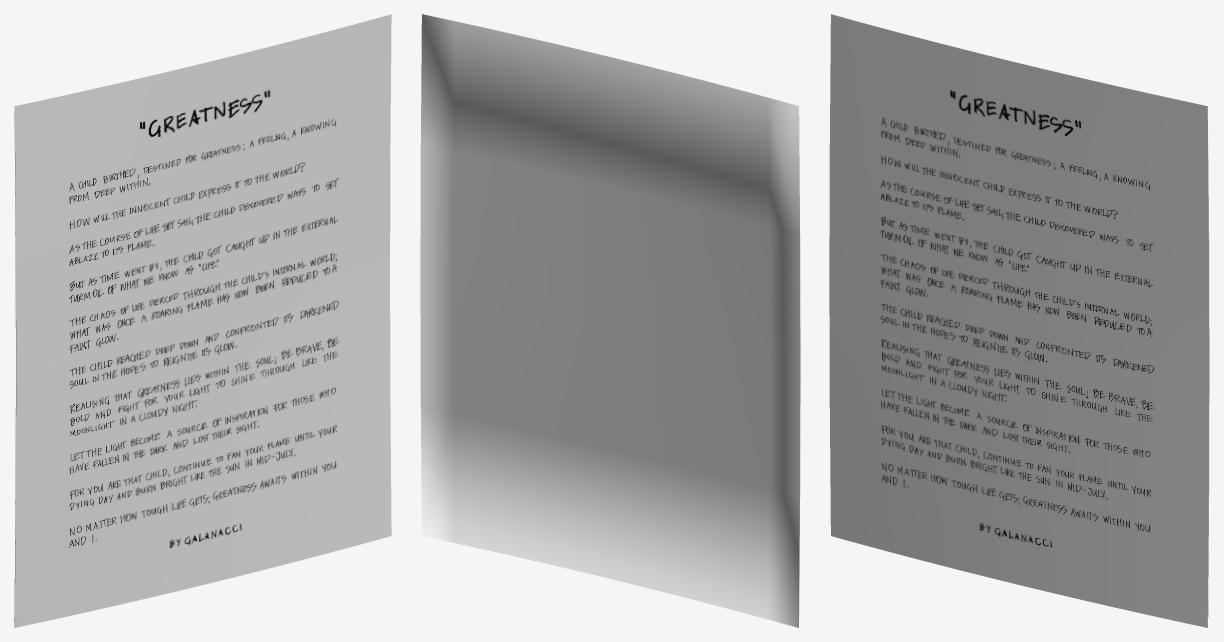
The model's file is 04-greatness.glb.
The picture shows the model from 3 angles, left to right: view 1: azimuth 30°, elevation 25°; view 2: azimuth 150°, elevation 25°; view 3: azimuth 330°, elevation 25°; orthographic projection.
Parts seen in each view (by area): view 1: GREATNESS_ORIGINAL_FRONT, GREATNESS_PAPER_REVERSE_EDGES; view 2: GREATNESS_PAPER_REVERSE_EDGES; view 3: GREATNESS_ORIGINAL_FRONT, GREATNESS_PAPER_REVERSE_EDGES.
Part boxes in pixels (<box>): GREATNESS_ORIGINAL_FRONT: <box>14,14,391,627</box>; GREATNESS_PAPER_REVERSE_EDGES: <box>14,14,390,627</box>; GREATNESS_PAPER_REVERSE_EDGES: <box>420,14,800,627</box>; GREATNESS_ORIGINAL_FRONT: <box>829,14,1209,627</box>; GREATNESS_PAPER_REVERSE_EDGES: <box>831,14,1209,627</box>.
Bounding box in the file's own units: 0.21 × 0.2779 × 0.00502.
2 materials, 1 textured.
